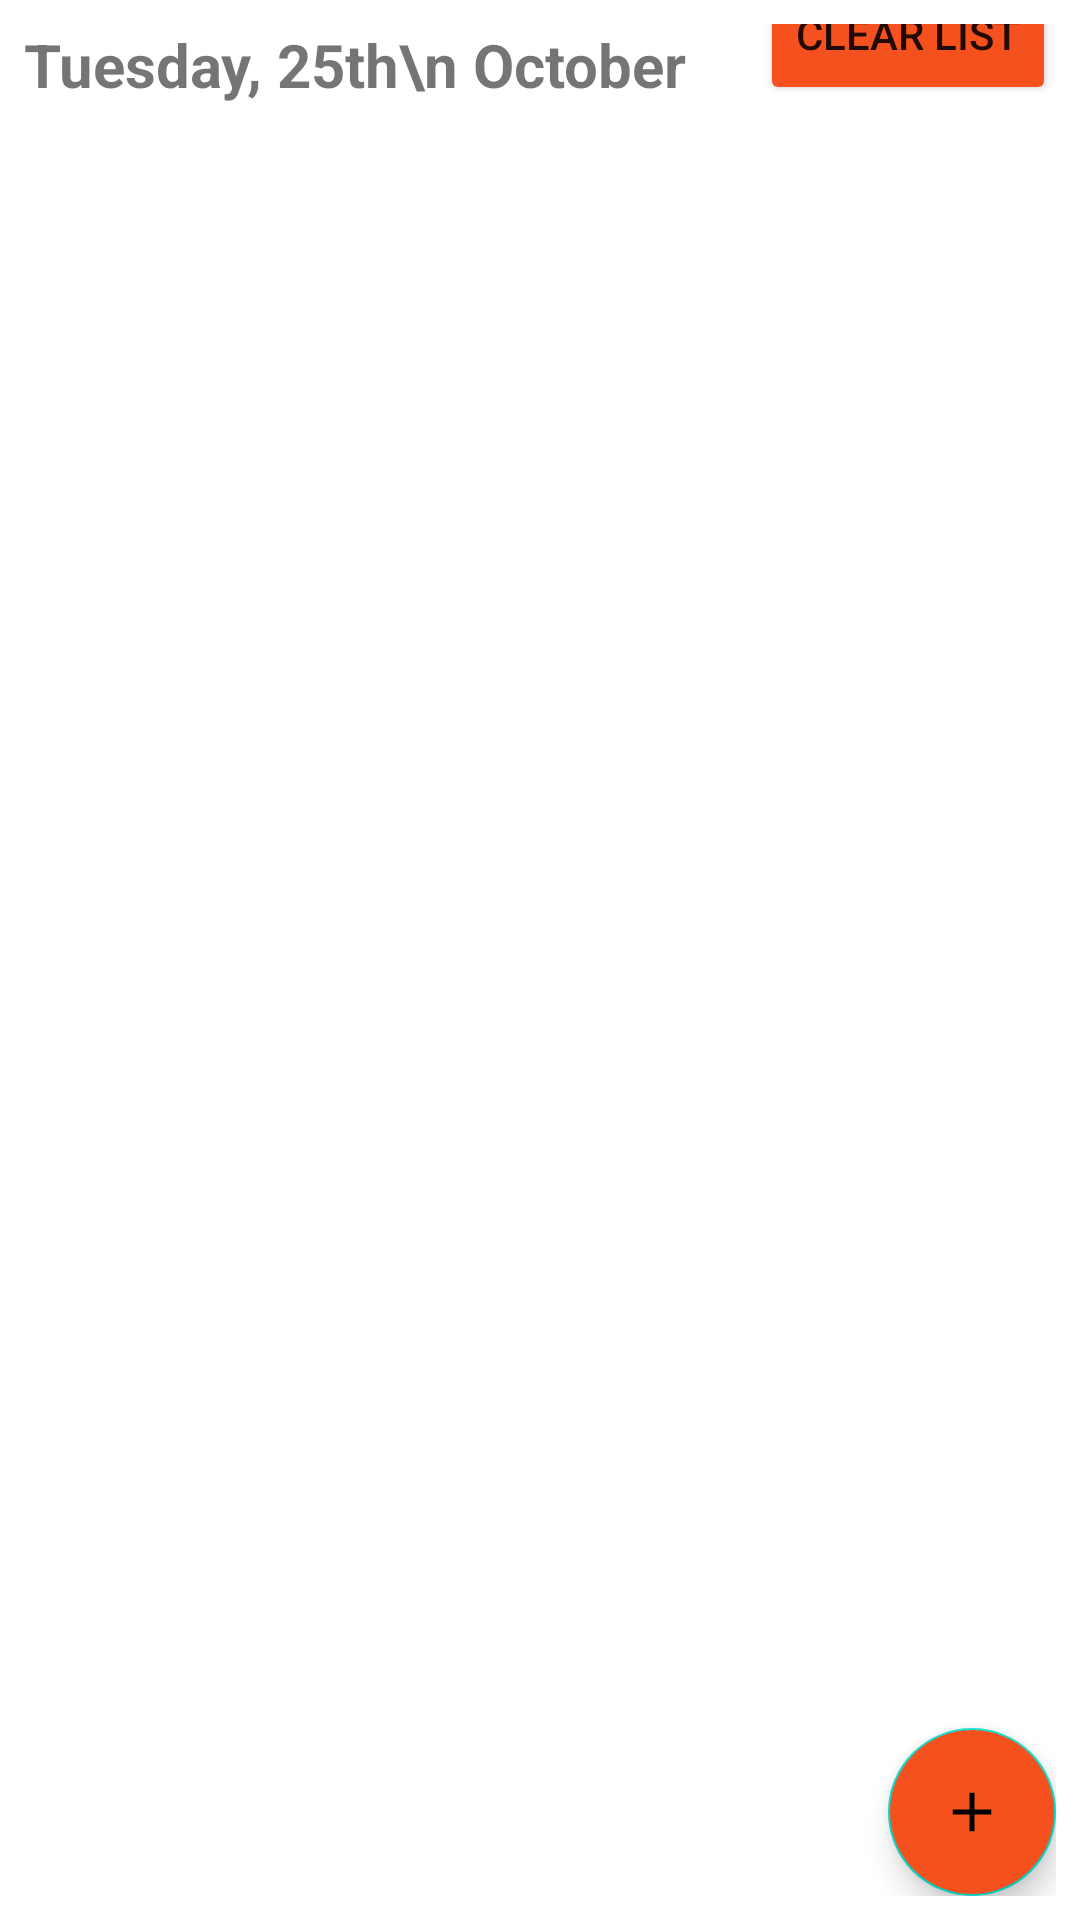

Locate icon controls on the screen. Image size 1080×1920, boxes as [x1,y1,x2,y2].
plus: [888,1728,1056,1896]
